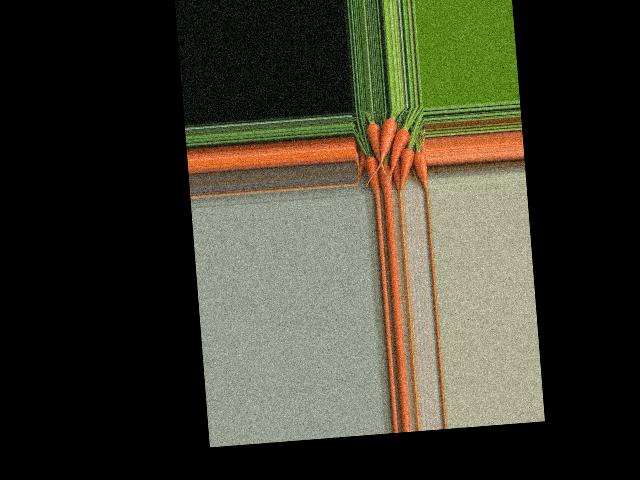carrot: (417, 150, 427, 191)
